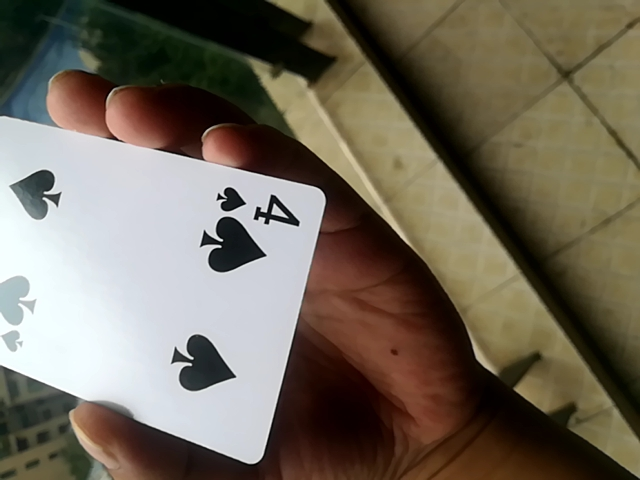ht 4: (0, 93, 327, 465)
